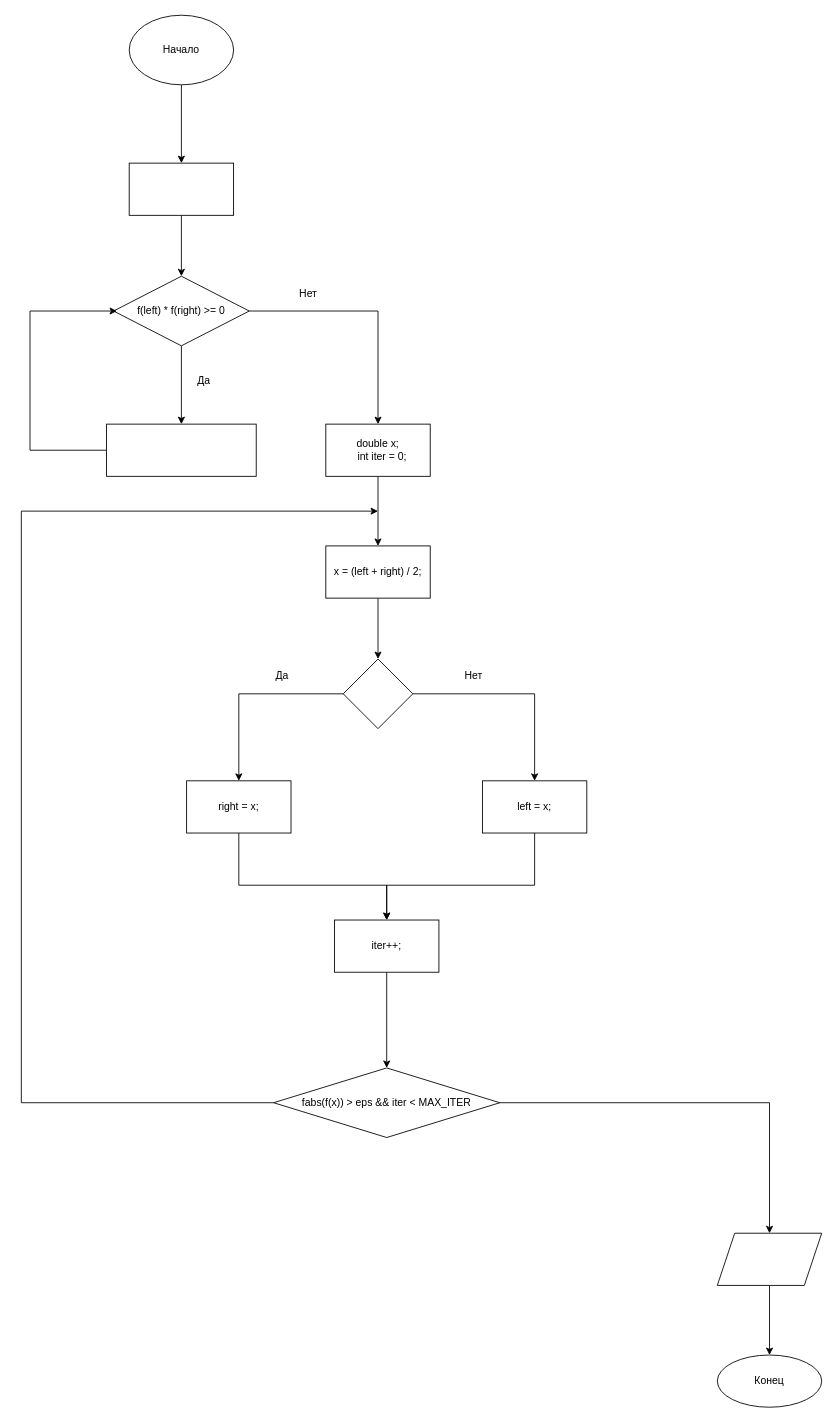
The diagram is 837 pixels wide and 1422 high, and some of its shapes have lost their labels. The shapes that lost their labels are listed below. From the top down, each one's box as (x1, y1, x2, y2) in pixels, then its label:
(128, 162, 234, 215): double left = x0; double right = x1;
(106, 423, 256, 476): left -= BISECT_STEP; right += BISECT_STEP;
(342, 658, 413, 729): f(x) > 0
(716, 1232, 822, 1285): Вывод iter
